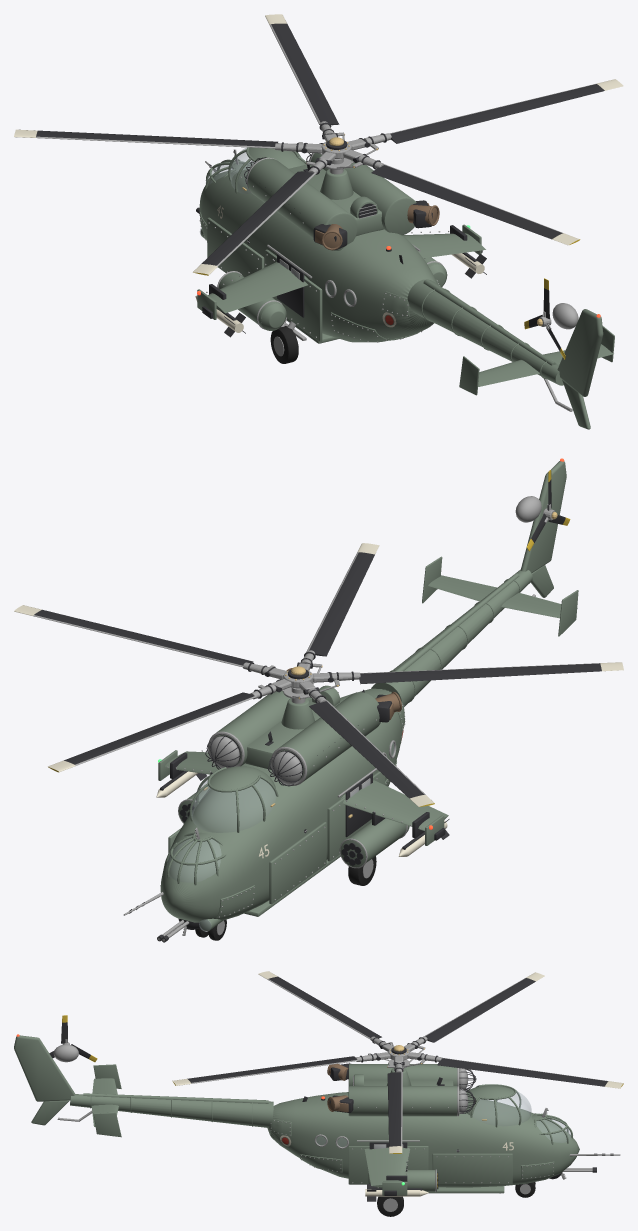
Rendered from heavy.glb.
3 renders of one model, top to bottom at view 1: azimuth 30°, elevation 25°; view 2: azimuth 150°, elevation 25°; view 3: azimuth 270°, elevation 25°, orthographic. The views are drawn at different scales.
Parts seen in each view (by area): view 1: body, rotor, tail_rotor; view 2: body, rotor, tail_rotor; view 3: body, rotor, tail_rotor.
Boxes of the visible parts, left/top/right/bottom form: body: left=195, top=143, right=614, bottom=429; rotor: left=14, top=14, right=623, bottom=275; tail_rotor: left=524, top=278, right=565, bottom=359; body: left=123, top=458, right=578, bottom=942; rotor: left=14, top=543, right=623, bottom=806; tail_rotor: left=527, top=470, right=570, bottom=551; body: left=14, top=1034, right=620, bottom=1216; rotor: left=172, top=971, right=623, bottom=1153; tail_rotor: left=49, top=1015, right=97, bottom=1062.
Bounding box in the file's own units: 10.25 × 4.52 × 14.48.
